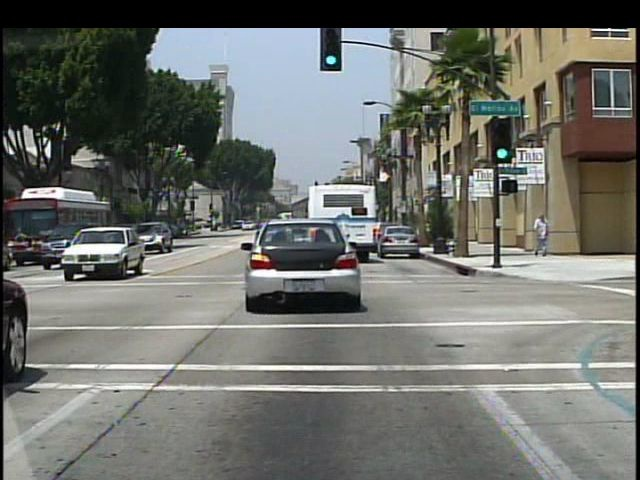person: (533, 213, 550, 258)
